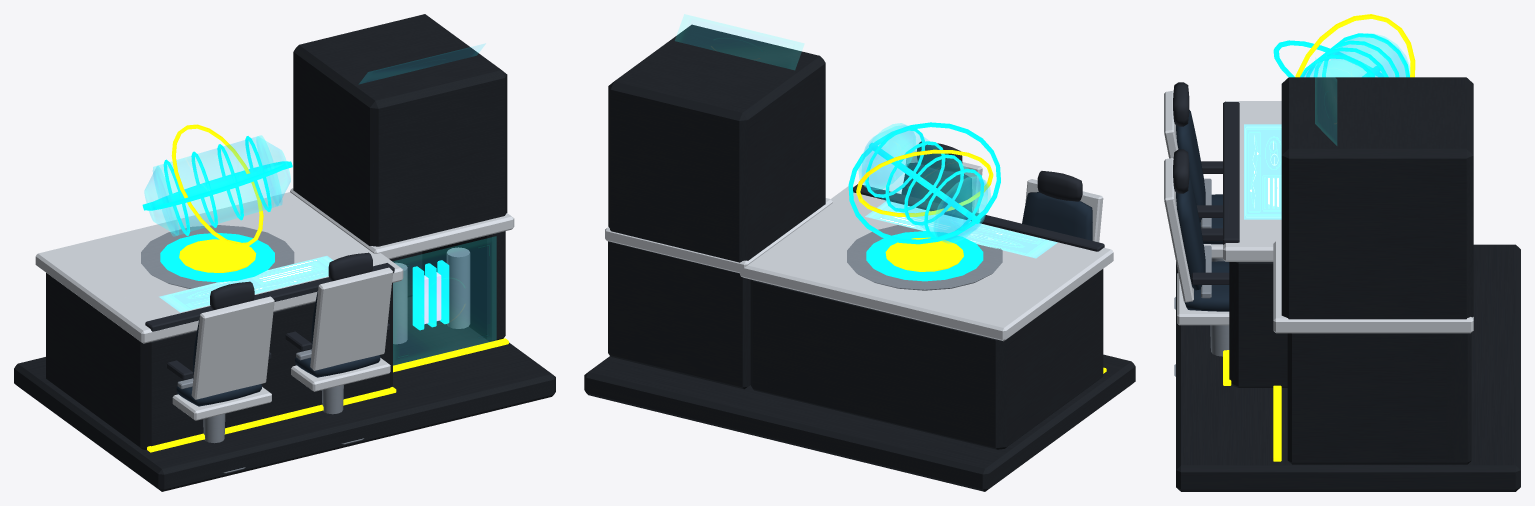
File: bridge_console_r1_02.glb
3 renders of one model, left to right at view 1: azimuth 30°, elevation 25°; view 2: azimuth 150°, elevation 25°; view 3: azimuth 270°, elevation 25°, orthographic. The views are drawn at different scales.
Parts seen in each view (by area): view 1: Bridge02_SplitBayGunmetalHull, Bridge02_AerospaceWhiteCowlingsAndChairShells, Bridge02_TranslucentHoloCylinderHUDAndCoreBay, Bridge02_CyanHoloCylinderWireframeAndCarts, Bridge02_MachinedSteelGimbalsAndThrottles, Bridge02_AmberGimbalRingAndSafetyStrip, Bridge02_CharcoalWristAndChairBolsters, Bridge02_OLEDTelemetryArrayAndTouchDeck, Bridge02_OrbitalNavyCommanderCushions; view 2: Bridge02_SplitBayGunmetalHull, Bridge02_AerospaceWhiteCowlingsAndChairShells, Bridge02_TranslucentHoloCylinderHUDAndCoreBay, Bridge02_CyanHoloCylinderWireframeAndCarts, Bridge02_OrbitalNavyCommanderCushions, Bridge02_CharcoalWristAndChairBolsters, Bridge02_AmberGimbalRingAndSafetyStrip, Bridge02_OLEDTelemetryArrayAndTouchDeck, Bridge02_MachinedSteelGimbalsAndThrottles; view 3: Bridge02_SplitBayGunmetalHull, Bridge02_AerospaceWhiteCowlingsAndChairShells, Bridge02_CharcoalWristAndChairBolsters, Bridge02_OrbitalNavyCommanderCushions, Bridge02_TranslucentHoloCylinderHUDAndCoreBay, Bridge02_OLEDTelemetryArrayAndTouchDeck, Bridge02_CyanHoloCylinderWireframeAndCarts, Bridge02_AmberGimbalRingAndSafetyStrip, Bridge02_MachinedSteelGimbalsAndThrottles.
Part boxes in pixels (bbox=[...]): Bridge02_SplitBayGunmetalHull: bbox=[14, 14, 555, 491]; Bridge02_AerospaceWhiteCowlingsAndChairShells: bbox=[35, 188, 514, 420]; Bridge02_TranslucentHoloCylinderHUDAndCoreBay: bbox=[144, 44, 495, 364]; Bridge02_CyanHoloCylinderWireframeAndCarts: bbox=[142, 136, 449, 330]; Bridge02_MachinedSteelGimbalsAndThrottles: bbox=[141, 225, 470, 473]; Bridge02_AmberGimbalRingAndSafetyStrip: bbox=[147, 124, 508, 452]; Bridge02_CharcoalWristAndChairBolsters: bbox=[145, 252, 394, 380]; Bridge02_OLEDTelemetryArrayAndTouchDeck: bbox=[159, 256, 333, 312]; Bridge02_OrbitalNavyCommanderCushions: bbox=[176, 291, 380, 406]; Bridge02_SplitBayGunmetalHull: bbox=[584, 24, 1135, 491]; Bridge02_AerospaceWhiteCowlingsAndChairShells: bbox=[605, 150, 1113, 341]; Bridge02_TranslucentHoloCylinderHUDAndCoreBay: bbox=[675, 14, 990, 243]; Bridge02_CyanHoloCylinderWireframeAndCarts: bbox=[848, 122, 1000, 281]; Bridge02_OrbitalNavyCommanderCushions: bbox=[901, 162, 1092, 240]; Bridge02_CharcoalWristAndChairBolsters: bbox=[853, 141, 1104, 251]; Bridge02_AmberGimbalRingAndSafetyStrip: bbox=[856, 149, 1106, 373]; Bridge02_OLEDTelemetryArrayAndTouchDeck: bbox=[865, 201, 1057, 258]; Bridge02_MachinedSteelGimbalsAndThrottles: bbox=[847, 225, 1002, 290]; Bridge02_SplitBayGunmetalHull: bbox=[1176, 77, 1520, 491]; Bridge02_AerospaceWhiteCowlingsAndChairShells: bbox=[1164, 91, 1473, 333]; Bridge02_CharcoalWristAndChairBolsters: bbox=[1173, 82, 1239, 284]; Bridge02_OrbitalNavyCommanderCushions: bbox=[1176, 110, 1229, 311]; Bridge02_TranslucentHoloCylinderHUDAndCoreBay: bbox=[1302, 33, 1409, 144]; Bridge02_OLEDTelemetryArrayAndTouchDeck: bbox=[1244, 124, 1281, 219]; Bridge02_CyanHoloCylinderWireframeAndCarts: bbox=[1273, 33, 1409, 77]; Bridge02_AmberGimbalRingAndSafetyStrip: bbox=[1223, 14, 1415, 461]; Bridge02_MachinedSteelGimbalsAndThrottles: bbox=[1174, 178, 1229, 376].
Bounding box in the file's own units: 2.55 × 1.92 × 1.71.
Materials: 11 (11 with a texture image).
